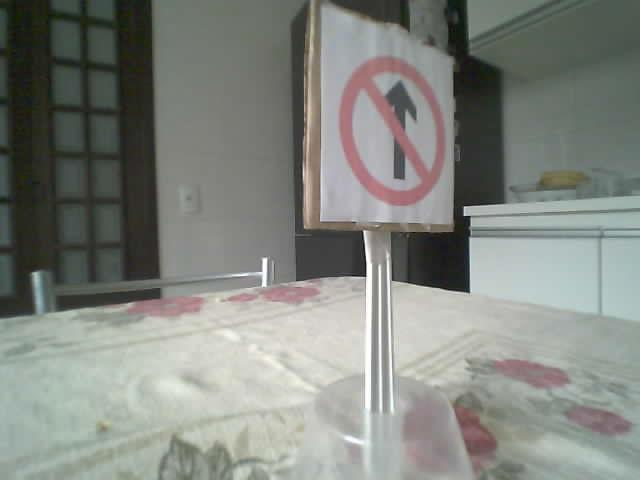R-3_sentido-proibido: (338, 55, 445, 205)
